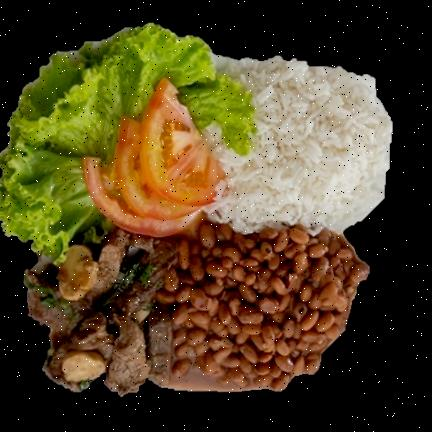beans: (156, 224, 367, 395)
meat: (26, 223, 183, 393)
rice: (201, 55, 392, 231)
salad: (0, 28, 251, 250)
tomato: (86, 80, 228, 228)
